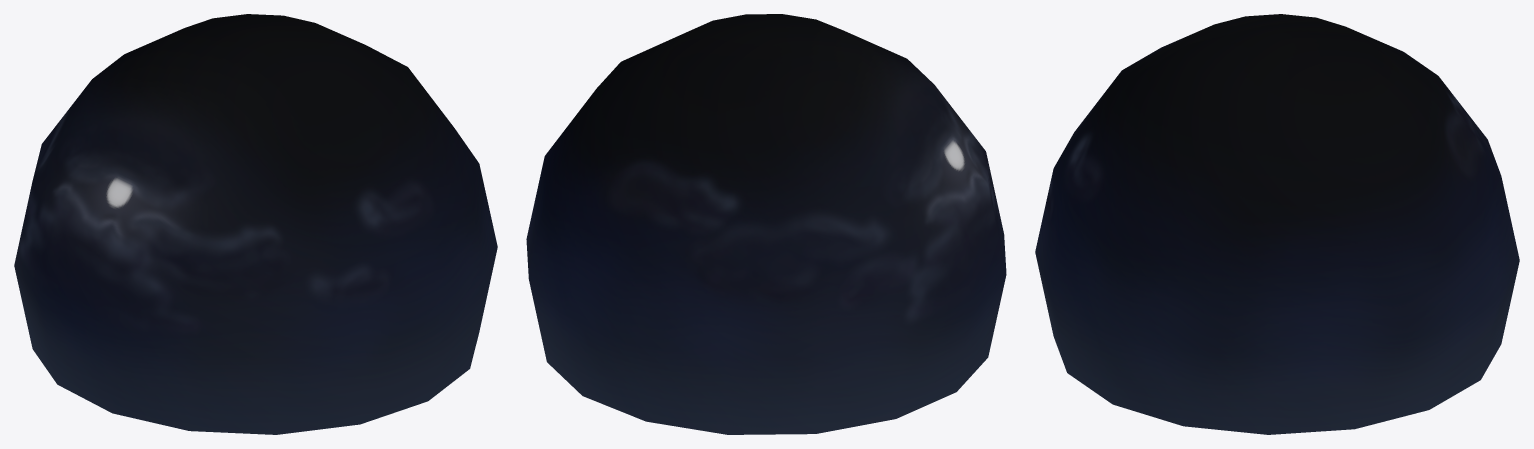
The model's file is ruins_skydome.fbx.
3 views of the same model, side by side, from view 1: azimuth 30°, elevation 25°; view 2: azimuth 150°, elevation 25°; view 3: azimuth 270°, elevation 25° (orthographic).
Visible parts, largest first — view 1: Sphere; view 2: Sphere; view 3: Sphere.
Boxes of the visible parts, x1,y1,x2,y2 form: Sphere: (14,14,497,434); Sphere: (526,14,1006,434); Sphere: (1035,14,1519,434).
Size of the model in its own units: 2.17e+07 by 1.5e+07 by 2.17e+07.
